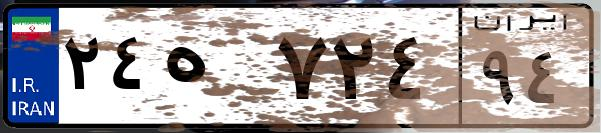2: (330, 28, 385, 110), (57, 26, 110, 100)
4: (385, 28, 445, 110), (525, 38, 570, 115), (110, 28, 158, 98)
7: (270, 28, 330, 110)
9: (475, 38, 525, 113)
ه: (158, 20, 270, 120)
